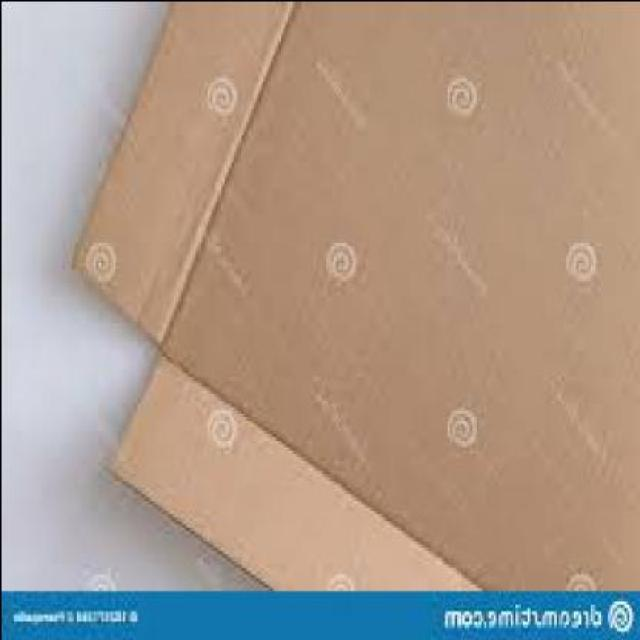CARDBOARD: (72, 2, 638, 584)
